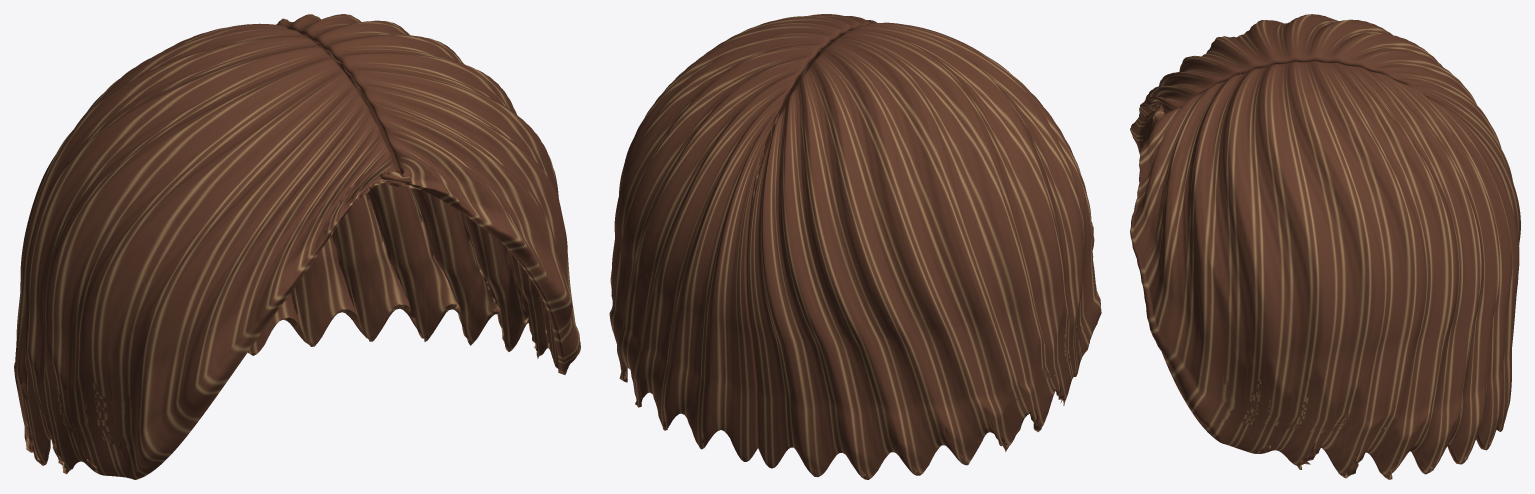
File: Highlights-f608a9380c9f252-hair.glb
The picture shows the model from 3 angles, left to right: view 1: azimuth 30°, elevation 25°; view 2: azimuth 150°, elevation 25°; view 3: azimuth 270°, elevation 25°; orthographic projection. The views are drawn at different scales.
Parts seen in each view (by area): view 1: 226 hair / Hair252 / flowing sculpt flow.001; view 2: 226 hair / Hair252 / flowing sculpt flow.001; view 3: 226 hair / Hair252 / flowing sculpt flow.001.
Part boxes in pixels (x1,y1,x2,y2): 226 hair / Hair252 / flowing sculpt flow.001: (14,14,580,479); 226 hair / Hair252 / flowing sculpt flow.001: (609,14,1101,479); 226 hair / Hair252 / flowing sculpt flow.001: (1130,14,1520,479).
Size of the model in its own units: 1.07 by 0.8596 by 0.8447.
Materials: 1 (1 with a texture image).
